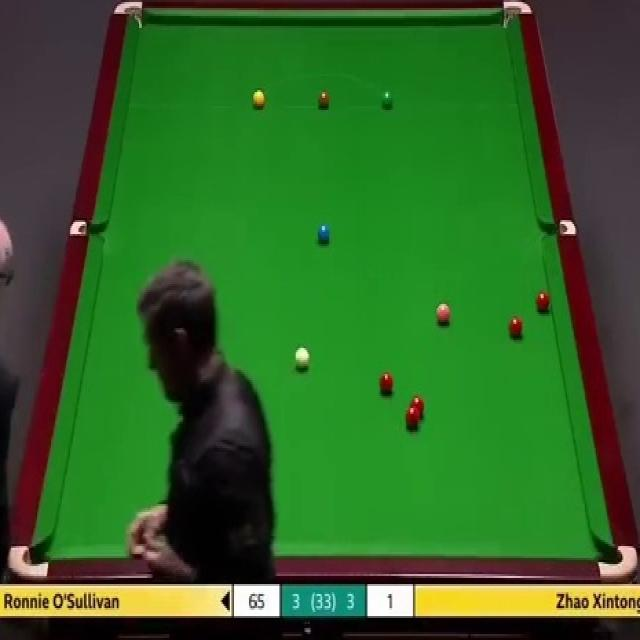pocket: (597, 540, 637, 583), (7, 543, 49, 582), (500, 0, 531, 32), (113, 0, 143, 28), (69, 220, 107, 237), (540, 220, 574, 235)
